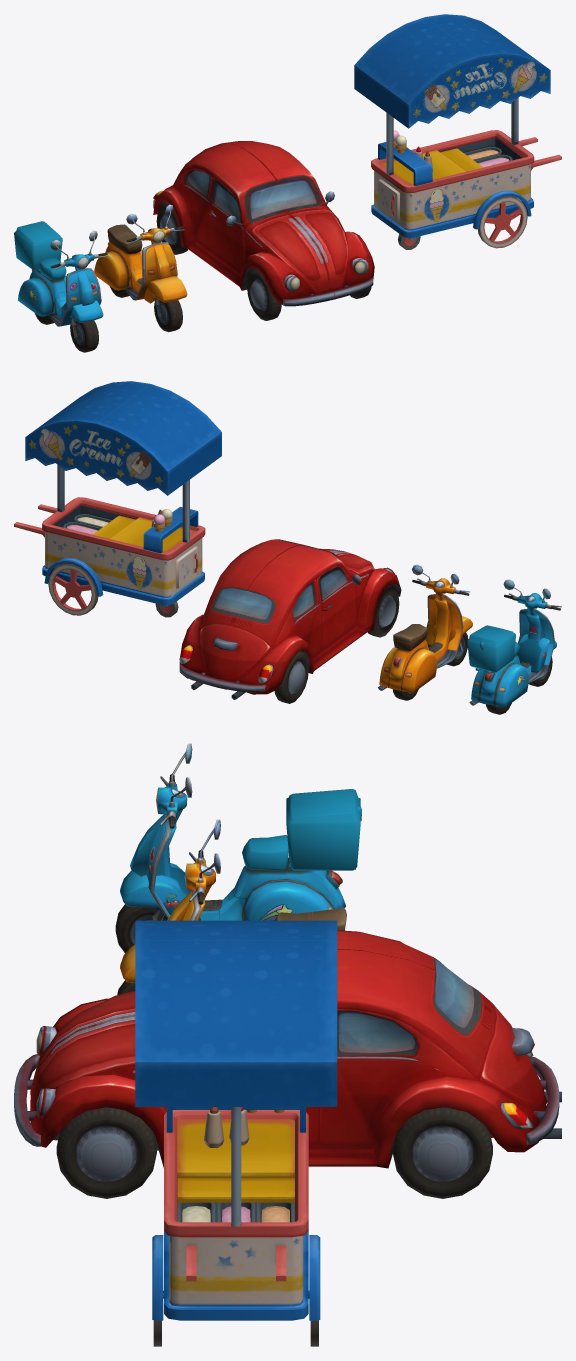
File: Resert Town Vehicles.FBX
3 renders of one model, top to bottom at view 1: azimuth 30°, elevation 25°; view 2: azimuth 150°, elevation 25°; view 3: azimuth 270°, elevation 25°, orthographic. The views are drawn at different scales.
Visible parts, largest first — view 1: Box, Car, Motorbike_2, Motorbike_1, Car_wheel_rr; view 2: Box, Car, Motorbike_2, Motorbike_1, Car_wheel_rr; view 3: Box, Car, Motorbike_2, Motorbike_1.
Boxes of the visible parts, bbox=[...] form: Box: bbox=[354, 14, 561, 249]; Car: bbox=[153, 141, 374, 320]; Motorbike_2: bbox=[14, 221, 108, 352]; Motorbike_1: bbox=[94, 204, 187, 332]; Car_wheel_rr: bbox=[156, 202, 187, 254]; Box: bbox=[14, 381, 221, 617]; Car: bbox=[179, 539, 401, 699]; Motorbike_2: bbox=[467, 579, 561, 714]; Motorbike_1: bbox=[378, 564, 472, 700]; Car_wheel_rr: bbox=[274, 651, 308, 703]; Box: bbox=[135, 920, 337, 1346]; Car: bbox=[14, 930, 561, 1198]; Motorbike_2: bbox=[115, 743, 361, 953]; Motorbike_1: bbox=[117, 819, 346, 994].
Bounding box in the file's own units: 9.39 × 3.52 × 4.66.
1 material, 1 textured.
